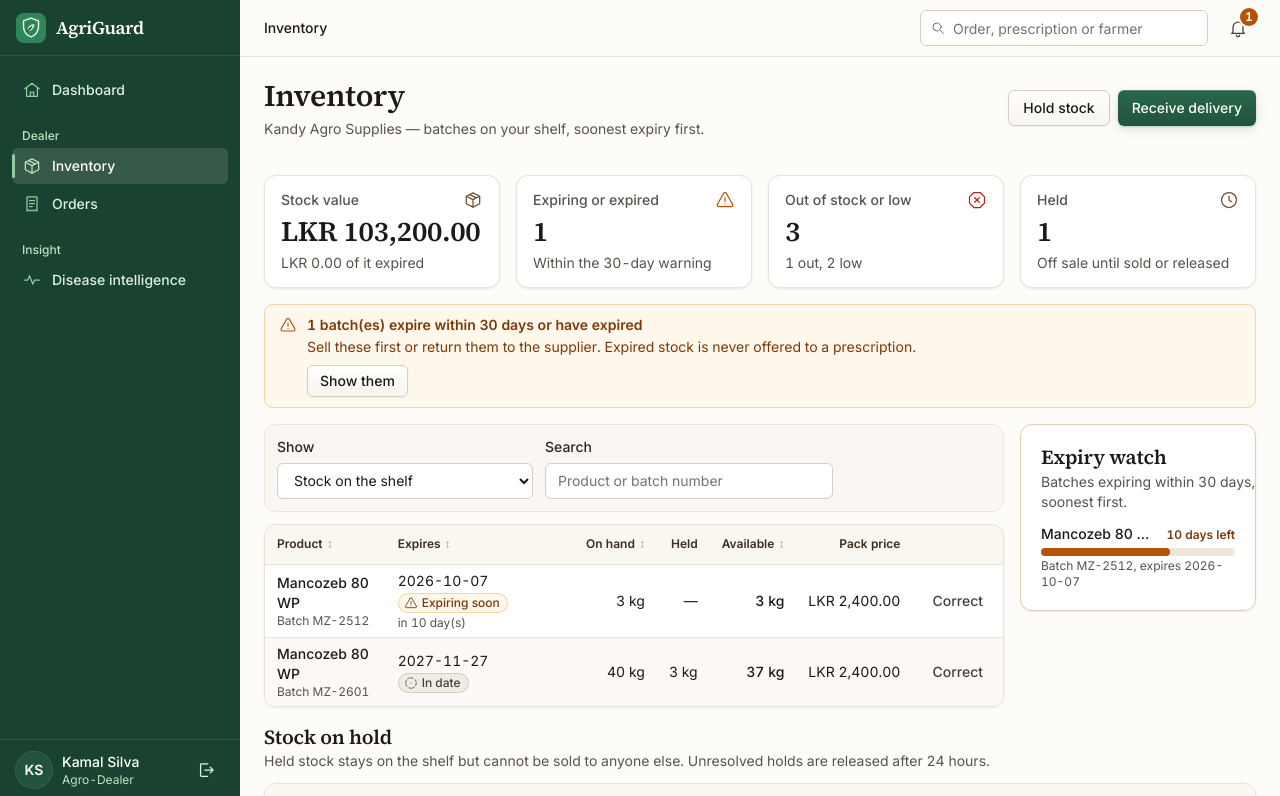
Scenario: InventoryPage › checks the delivery form before sending anything
The width and height of the screenshot is (1280, 796).
Click the button "Receive delivery" at (1187, 108), box [1118, 90, 1256, 126]
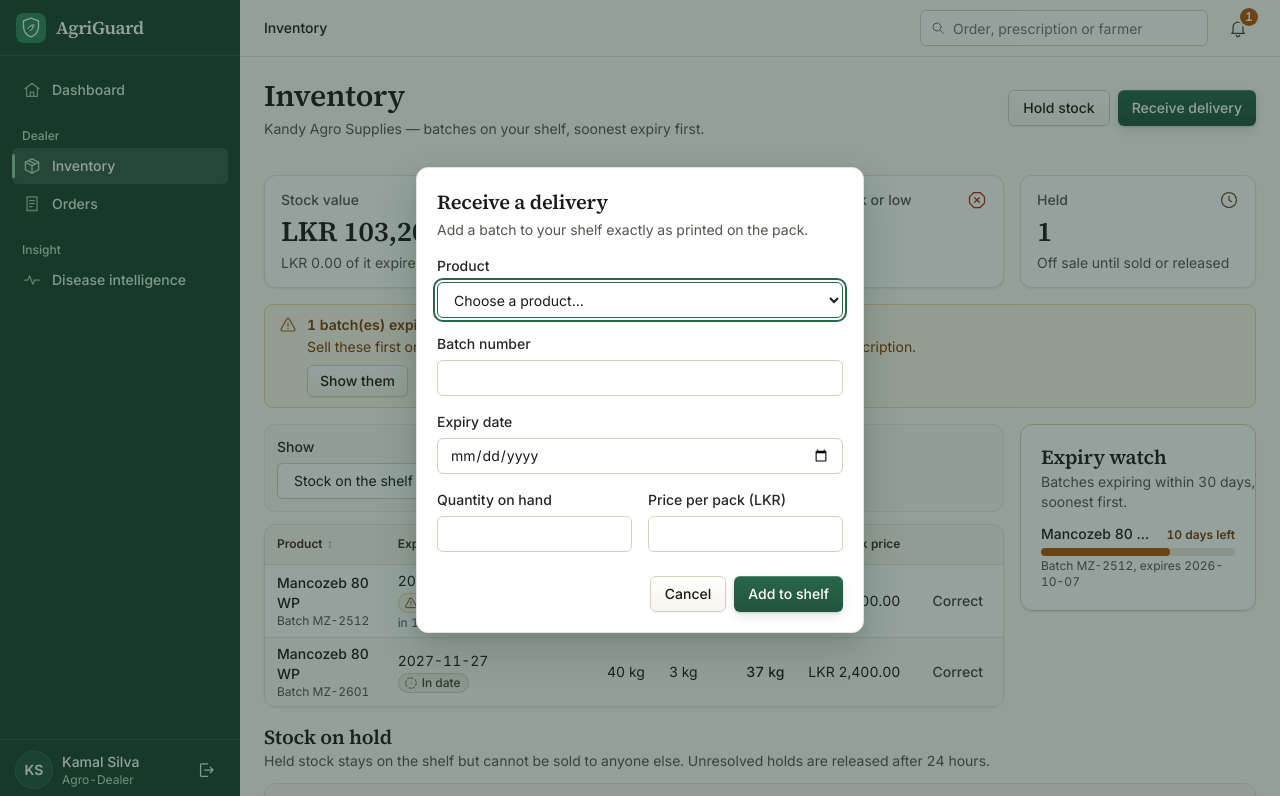
Click the button "Add to shelf" at (789, 594), box [734, 576, 843, 612]
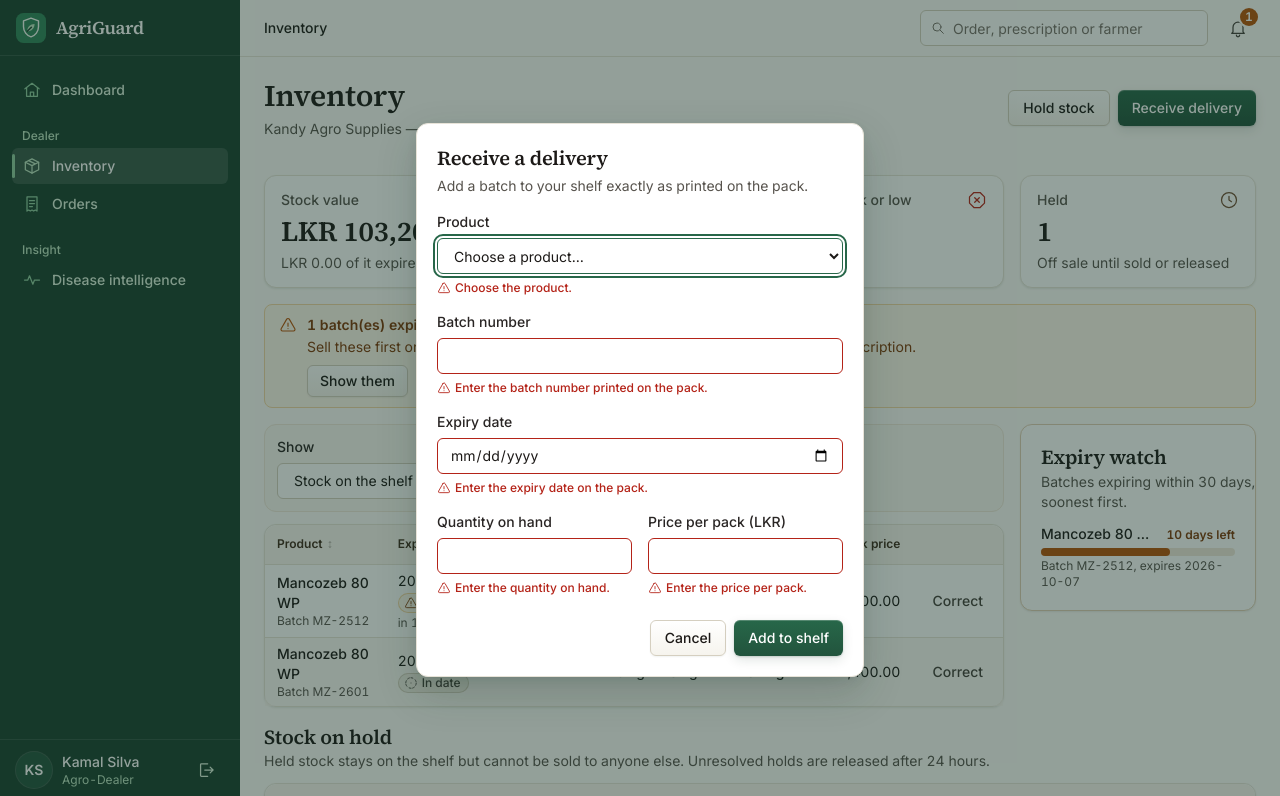
Result: the text "Choose the product." is shown at [455, 280, 572, 296]
Result: the text "Enter the quantity on hand." is shown at [455, 580, 610, 596]
